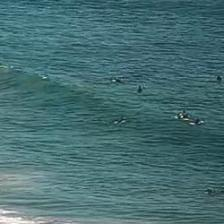surfer: (189, 118, 206, 126), (113, 116, 126, 125), (112, 78, 127, 85), (178, 110, 188, 120), (136, 85, 144, 94), (211, 188, 219, 195), (215, 76, 222, 82)
